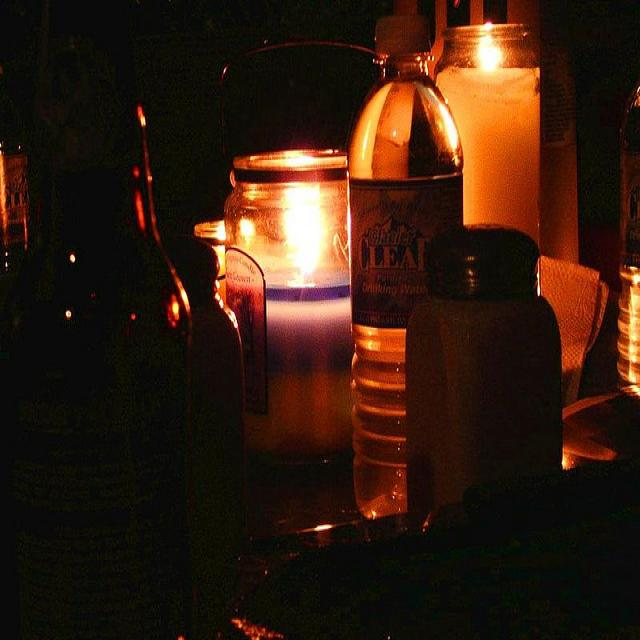Bottle: (4, 143, 199, 640), (329, 8, 462, 528), (401, 202, 570, 519), (230, 155, 356, 474), (426, 16, 539, 240)
